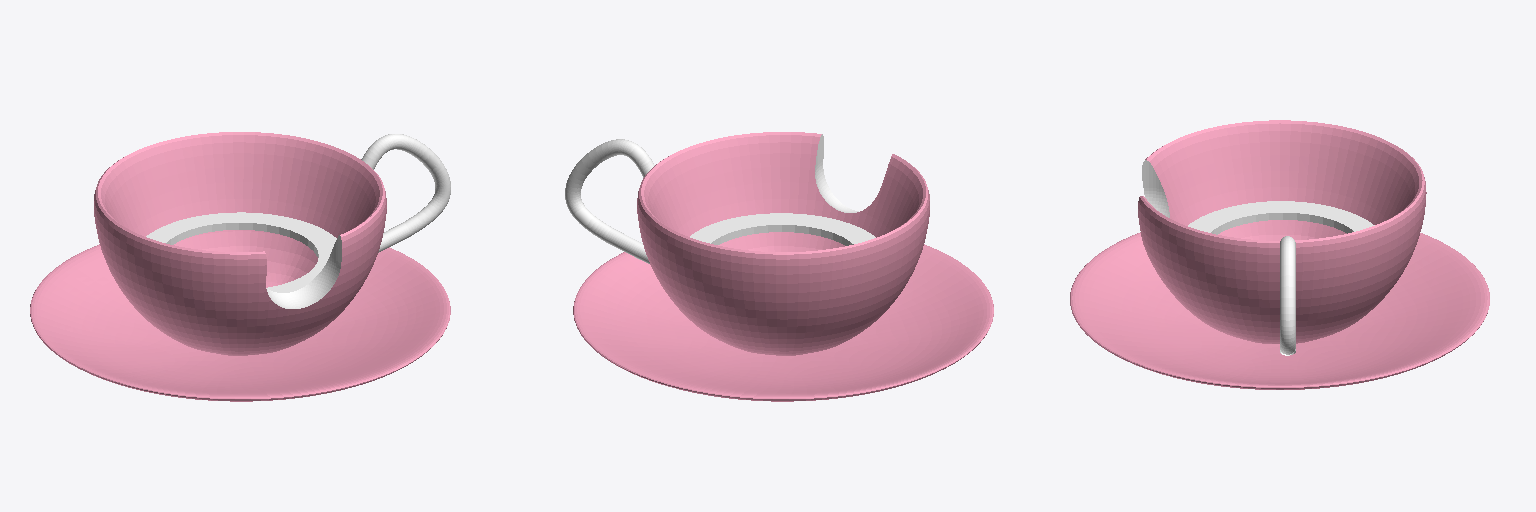
The picture shows the model from 3 angles: view 1: azimuth 30°, elevation 25°; view 2: azimuth 150°, elevation 25°; view 3: azimuth 270°, elevation 25°; orthographic projection.
Parts seen in each view (by area): view 1: Ride_Surface_Teacup_2_Subdivision_Surface_1_Sphere3.000_Ride_Sur, Ride_Surface_Teacup_2_Sweep6.000_Ride_Surface_Teacup_2_Sweep6.00; view 2: Ride_Surface_Teacup_2_Subdivision_Surface_1_Sphere3.000_Ride_Sur, Ride_Surface_Teacup_2_Sweep6.000_Ride_Surface_Teacup_2_Sweep6.00; view 3: Ride_Surface_Teacup_2_Subdivision_Surface_1_Sphere3.000_Ride_Sur, Ride_Surface_Teacup_2_Sweep6.000_Ride_Surface_Teacup_2_Sweep6.00.
Part boxes in pixels (bbox=[...]): Ride_Surface_Teacup_2_Subdivision_Surface_1_Sphere3.000_Ride_Sur: bbox=[30, 132, 450, 401]; Ride_Surface_Teacup_2_Sweep6.000_Ride_Surface_Teacup_2_Sweep6.00: bbox=[146, 134, 450, 308]; Ride_Surface_Teacup_2_Subdivision_Surface_1_Sphere3.000_Ride_Sur: bbox=[573, 132, 993, 401]; Ride_Surface_Teacup_2_Sweep6.000_Ride_Surface_Teacup_2_Sweep6.00: bbox=[565, 134, 875, 263]; Ride_Surface_Teacup_2_Subdivision_Surface_1_Sphere3.000_Ride_Sur: bbox=[1070, 120, 1489, 389]; Ride_Surface_Teacup_2_Sweep6.000_Ride_Surface_Teacup_2_Sweep6.00: bbox=[1142, 160, 1374, 355].
Size of the model in its own units: 5.9 by 2.41 by 5.42.
2 materials, 1 textured.